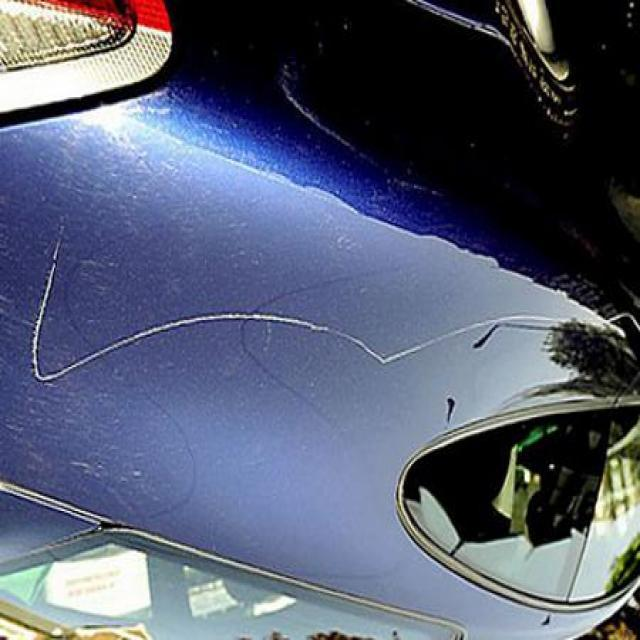scratch: (97, 304, 390, 370), (404, 298, 542, 364), (28, 233, 86, 389)
